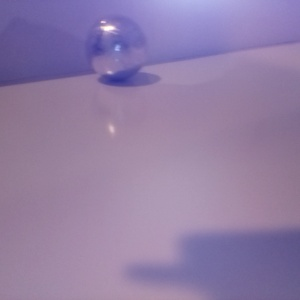dead_ball: (13, 76, 121, 181)
